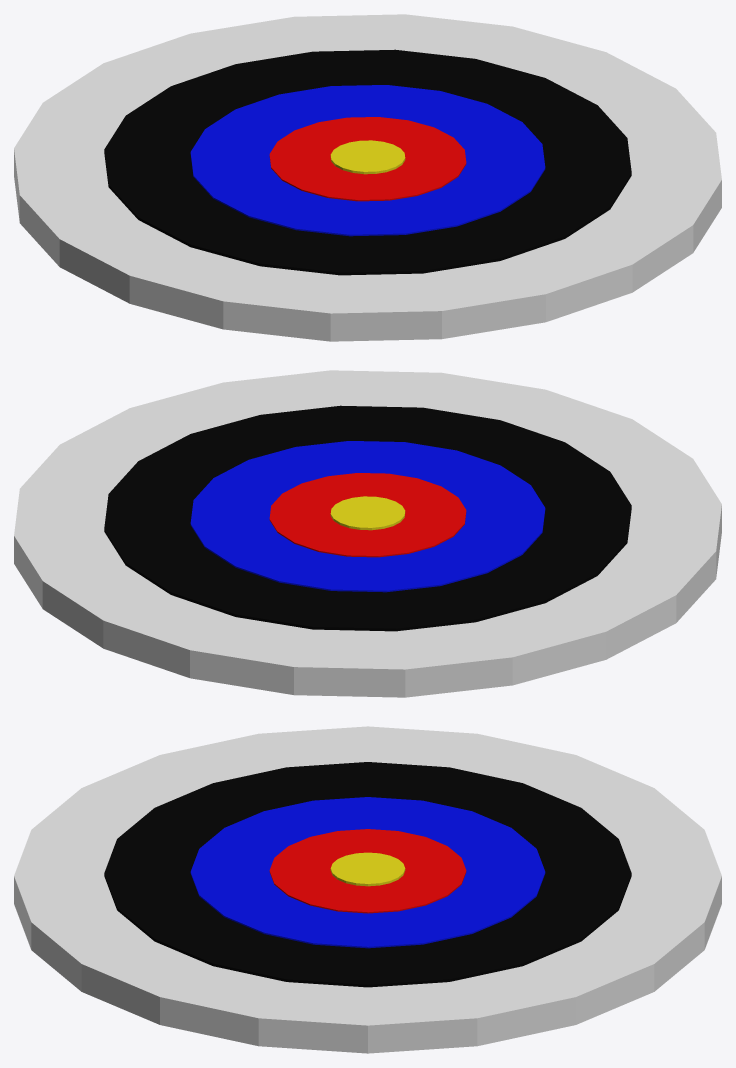
Rendered from Diana.fbx.
3 renders of one model, top to bottom at view 1: azimuth 30°, elevation 25°; view 2: azimuth 150°, elevation 25°; view 3: azimuth 270°, elevation 25°, orthographic.
Parts seen in each view (by area): view 1: Diana_White, Diana_Black, Diana_Blue, Diana_Red, Diana_Yellow; view 2: Diana_White, Diana_Black, Diana_Blue, Diana_Red, Diana_Yellow; view 3: Diana_White, Diana_Black, Diana_Blue, Diana_Red, Diana_Yellow.
Boxes of the visible parts, x1=… form: Diana_White: x1=14, y1=14, x2=721, y2=341; Diana_Black: x1=104, y1=49, x2=631, y2=275; Diana_Blue: x1=190, y1=85, x2=545, y2=236; Diana_Red: x1=269, y1=117, x2=466, y2=201; Diana_Yellow: x1=330, y1=140, x2=405, y2=174; Diana_White: x1=14, y1=370, x2=721, y2=697; Diana_Black: x1=104, y1=405, x2=631, y2=631; Diana_Blue: x1=190, y1=441, x2=545, y2=592; Diana_Red: x1=269, y1=473, x2=466, y2=557; Diana_Yellow: x1=330, y1=496, x2=405, y2=530; Diana_White: x1=14, y1=726, x2=721, y2=1053; Diana_Black: x1=104, y1=762, x2=631, y2=987; Diana_Blue: x1=190, y1=797, x2=545, y2=948; Diana_Red: x1=269, y1=829, x2=466, y2=913; Diana_Yellow: x1=330, y1=852, x2=405, y2=886.
Size of the model in its own units: 268 by 18.16 by 268.
